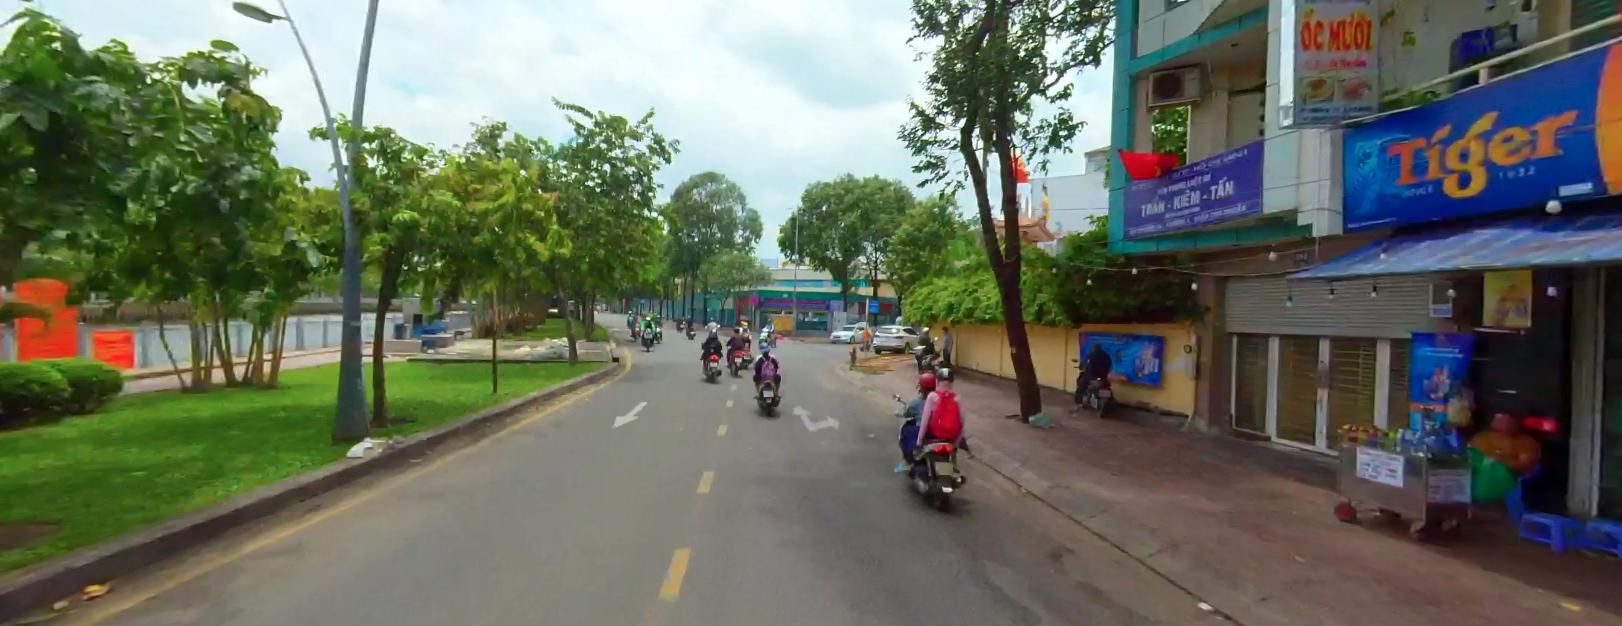Cam dung va do: (748, 293, 758, 303)
